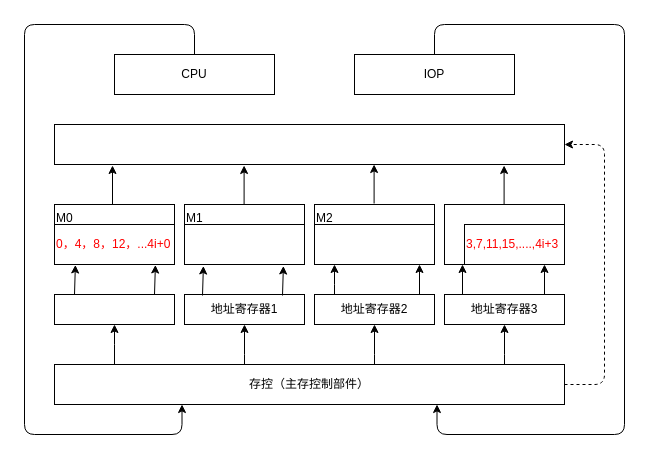
Image size: 650x460. Some labels were removed from this diagram. The box of each missing label's shape, as (x1, y1, x2, y2) in pixels:
1，5，9，13,...,4i+1: (184, 224, 304, 264)
2,6,10,14,...,4i+2: (314, 224, 434, 264)
M3: (444, 204, 564, 264)
地址寄存器0: (54, 294, 174, 324)
总线控制: (54, 124, 564, 164)
